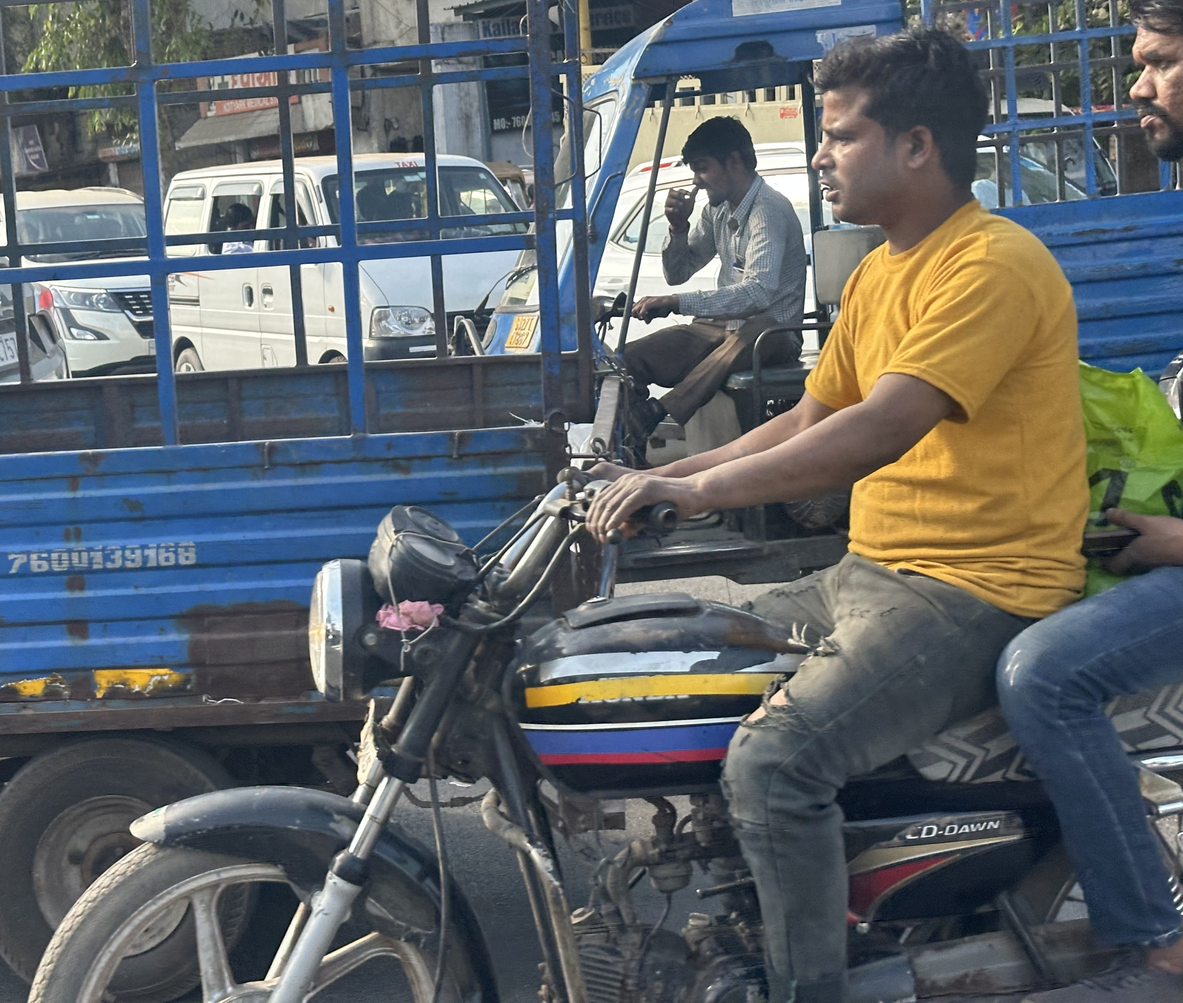BikeWithRider: (28, 5, 1183, 1003)
NoHelmet: (793, 10, 997, 243)
